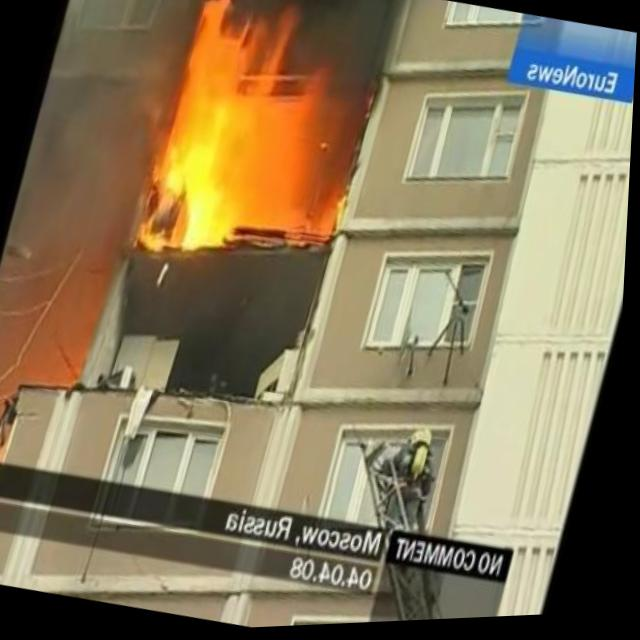fire: (124, 0, 319, 271)
